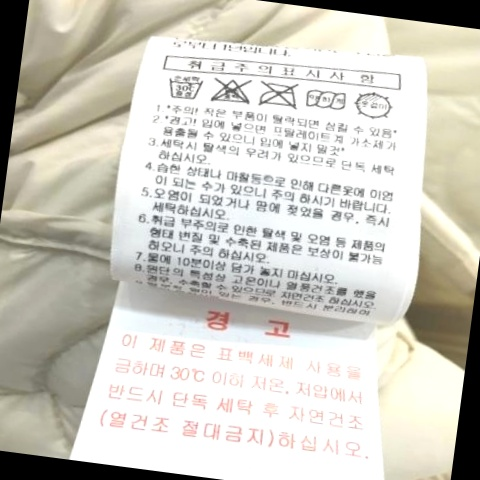DN_iron: (257, 75, 303, 112)
hand_wash: (163, 66, 208, 106)
line_dry_in_shade: (352, 86, 399, 124)
non_chlorine_bleach: (209, 68, 260, 109)
wring: (303, 84, 351, 115)
